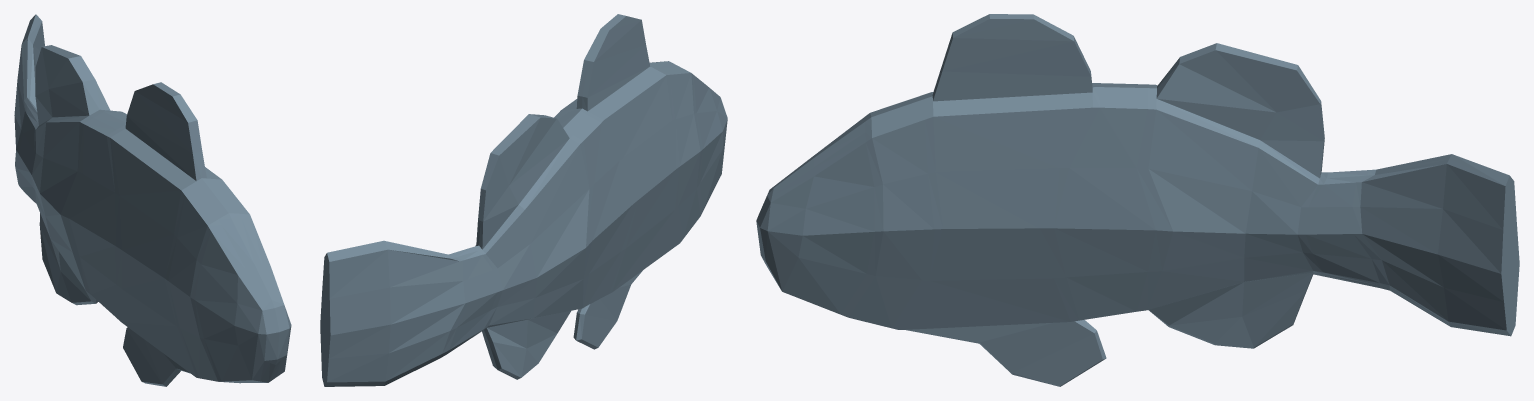
The model's file is fish3.glb.
The picture shows the model from 3 angles, left to right: view 1: azimuth 30°, elevation 25°; view 2: azimuth 150°, elevation 25°; view 3: azimuth 270°, elevation 25°; orthographic projection. The views are drawn at different scales.
Parts seen in each view (by area): view 1: Fish3.obj; view 2: Fish3.obj; view 3: Fish3.obj.
Part boxes in pixels (x1,y1,x2,y2): Fish3.obj: (14,14,291,386); Fish3.obj: (320,14,727,386); Fish3.obj: (756,14,1519,386).
Size of the model in its own units: 0.4583 by 1.07 by 2.
